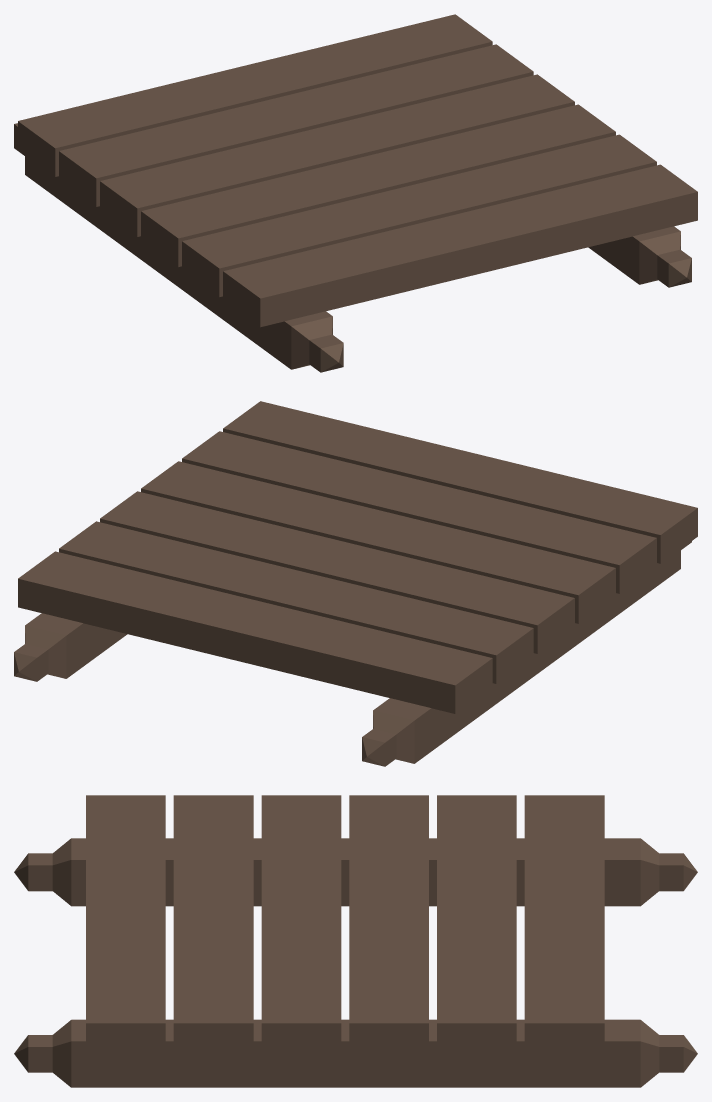
The model's file is DeliveryPoint_Flat.fbx.
3 renders of one model, top to bottom at view 1: azimuth 30°, elevation 25°; view 2: azimuth 150°, elevation 25°; view 3: azimuth 270°, elevation 25°, orthographic. The views are drawn at different scales.
Parts seen in each view (by area): view 1: DeliveryFlat; view 2: DeliveryFlat; view 3: DeliveryFlat.
Part boxes in pixels (x1,y1,x2,y2): DeliveryFlat: (14, 14, 697, 372); DeliveryFlat: (14, 401, 697, 766); DeliveryFlat: (14, 795, 697, 1087).
Size of the model in its own units: 259 by 40.7 by 328.
